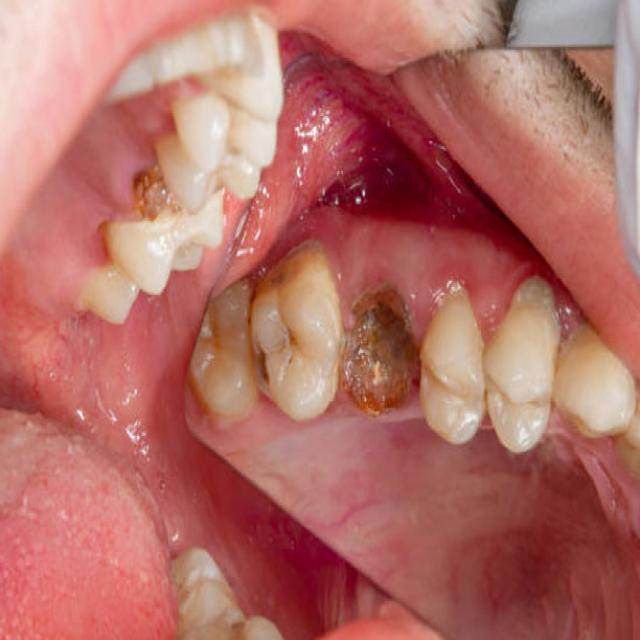caries: (343, 288, 422, 416), (511, 259, 572, 337), (123, 162, 165, 226), (247, 326, 282, 386)
